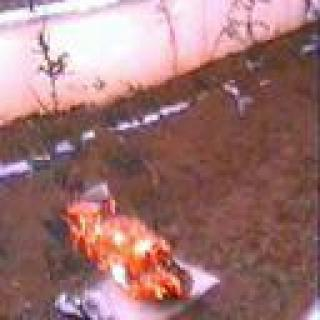fire: (70, 202, 193, 308)
